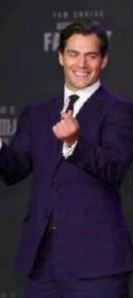oneheart: (49, 109, 84, 144)
